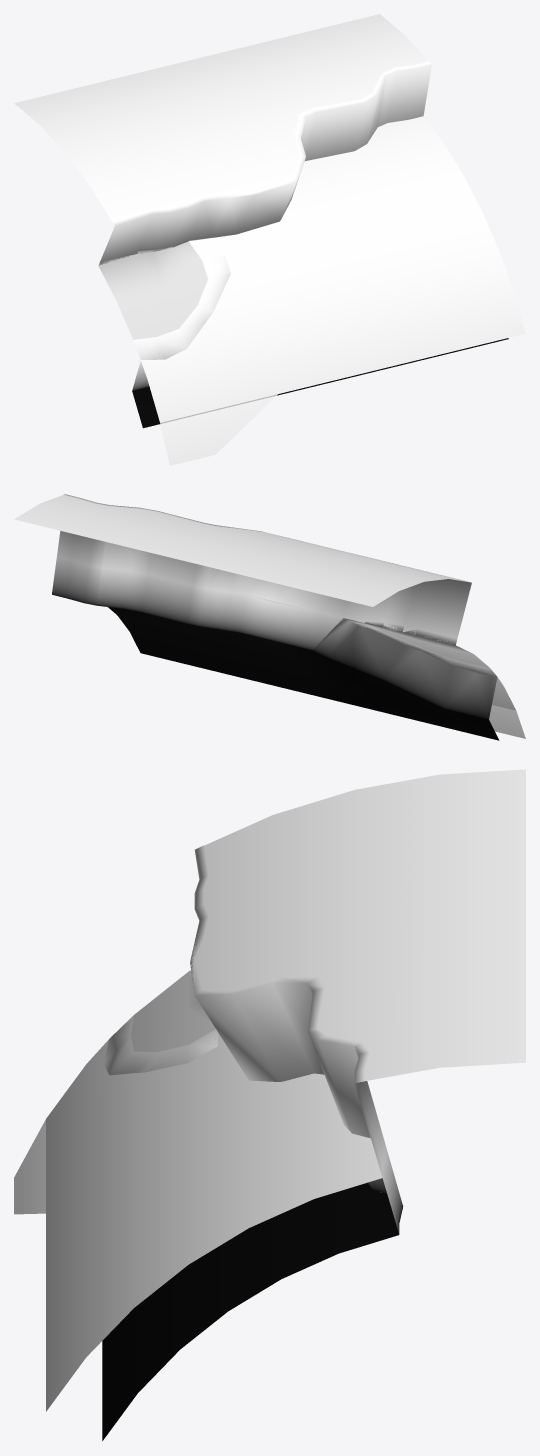
The model's file is grd_Mse_s_E_0.dae.
The picture shows the model from 3 angles, top to bottom: view 1: azimuth 30°, elevation 25°; view 2: azimuth 150°, elevation 25°; view 3: azimuth 270°, elevation 25°; orthographic projection. The views are drawn at different scales.
Visible parts, largest first — view 1: grd_Mse_s_E_0; view 2: grd_Mse_s_E_0; view 3: grd_Mse_s_E_0.
Boxes of the visible parts, x1=… form: grd_Mse_s_E_0: x1=14, y1=14, x2=525, y2=465; grd_Mse_s_E_0: x1=14, y1=494, x2=525, y2=740; grd_Mse_s_E_0: x1=14, y1=769, x2=525, y2=1440.
Size of the model in its own units: 512 by 332 by 378.
7 materials, 1 textured.
